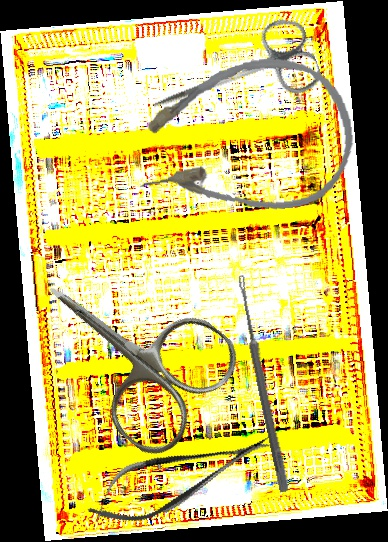Cannula: (126, 49, 361, 226)
Iris Scissors: (6, 231, 250, 466), (140, 11, 326, 145)
Micro Scissor: (77, 416, 282, 539)
Surgical Spoon: (234, 274, 291, 493)
